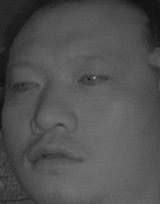eye: (75, 68, 113, 90), (11, 74, 40, 95)
mouth: (27, 139, 82, 172)
